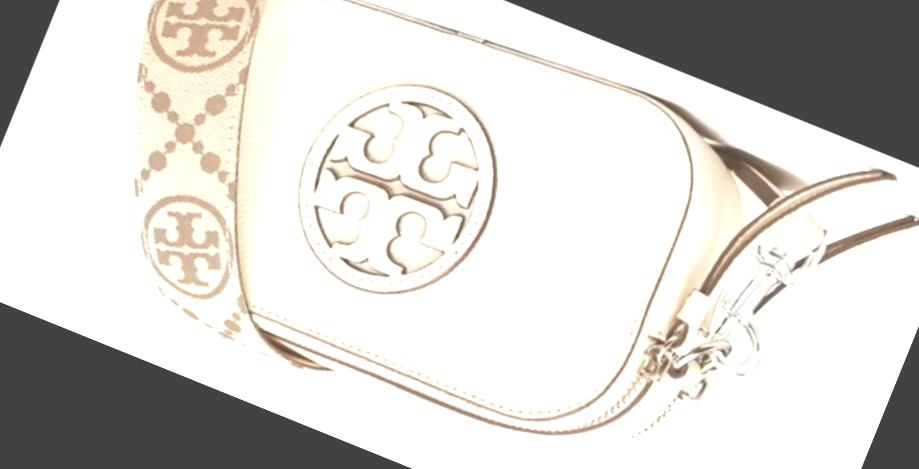TORY-BURCH: (266, 52, 526, 326), (122, 181, 252, 307), (133, 0, 269, 91)
